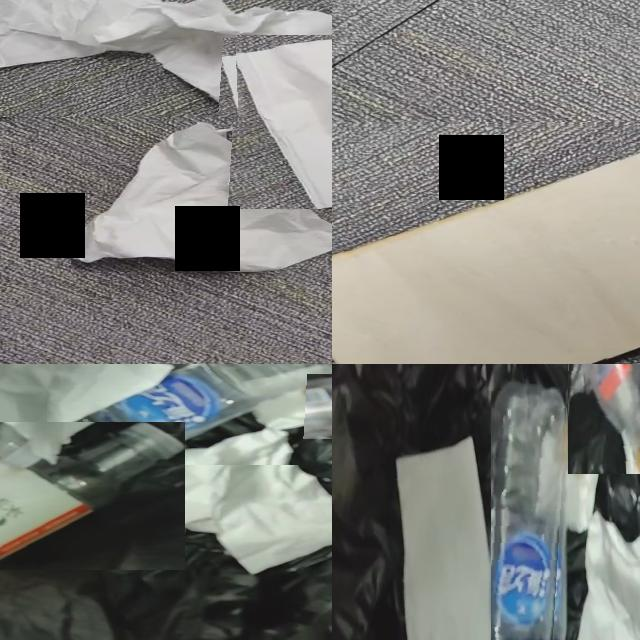bottle: (47, 364, 332, 465), (0, 422, 185, 559), (491, 382, 567, 640), (584, 364, 640, 465)
carton: (332, 154, 640, 364)
paper: (35, 428, 332, 574), (71, 123, 332, 272), (0, 0, 332, 117), (545, 430, 640, 640), (397, 438, 492, 640), (0, 364, 174, 463), (236, 39, 332, 209), (247, 364, 332, 430)
